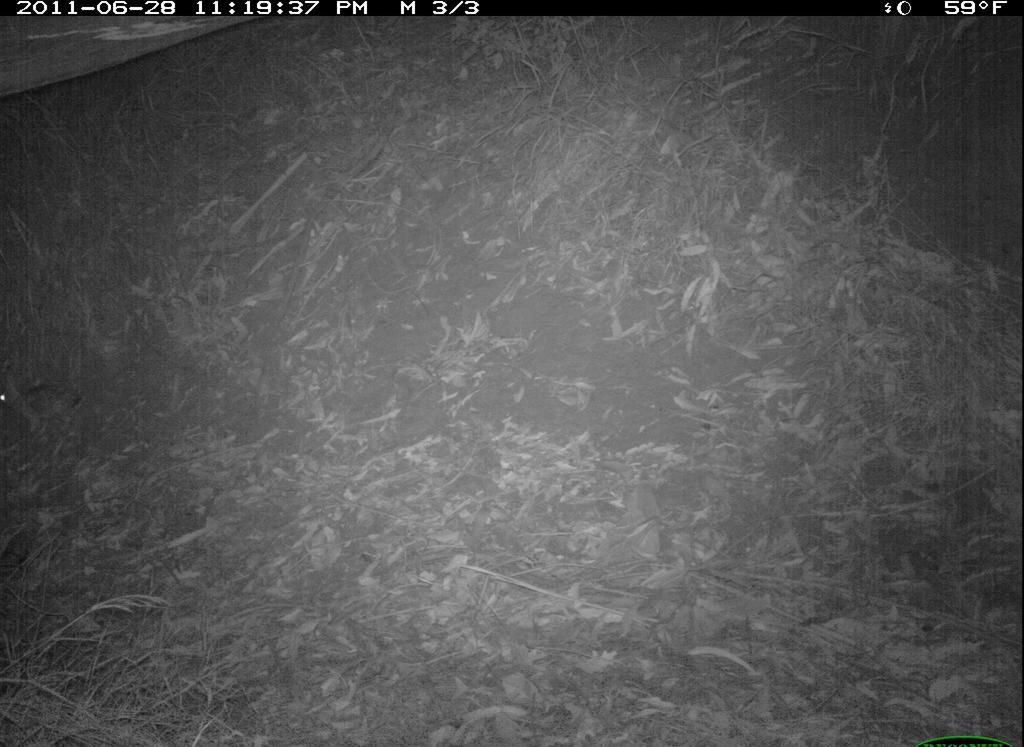rabbit: (1, 361, 96, 436)
